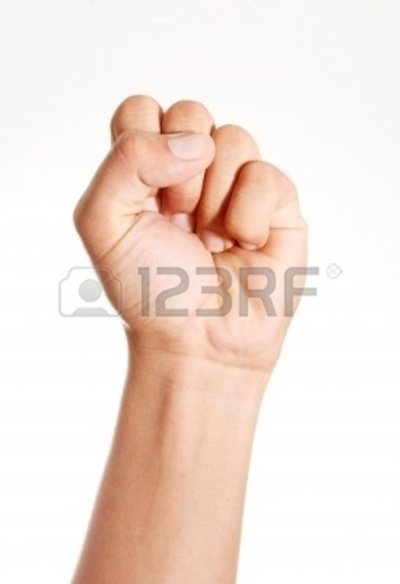closedhandfront: (49, 76, 327, 383)
